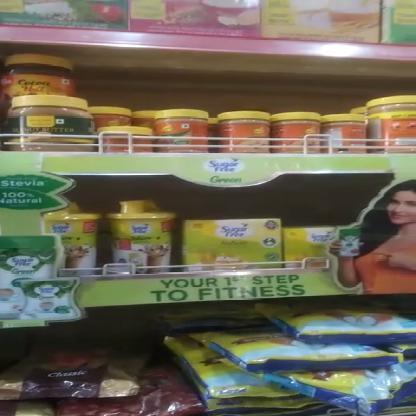SUGAR FREE NATURA SACHET 50: (182, 219, 282, 262), (285, 230, 343, 258)
